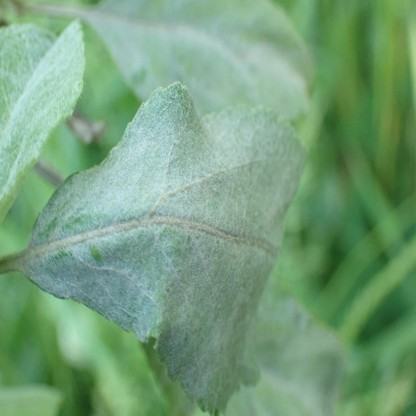powdery_mildew: (27, 80, 308, 416), (91, 0, 309, 116), (1, 17, 85, 198)
